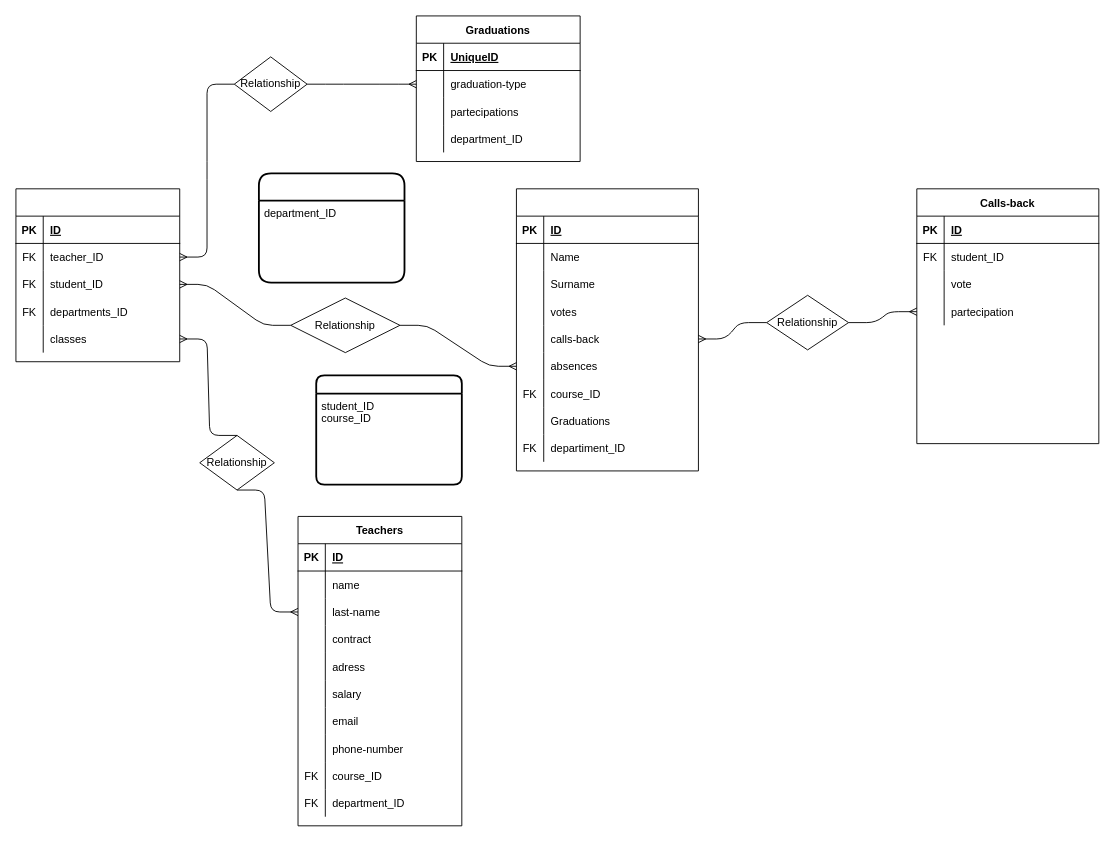
Some shapes in this 1115 by 842 pixel diagram are drawn without their labels. The box of each missing label's shape, as (x1, y1, x2, y2) in pixels:
appeal: (315, 374, 462, 485)
Courses: (15, 188, 180, 362)
Departments: (258, 172, 405, 283)
Students: (516, 188, 698, 471)
